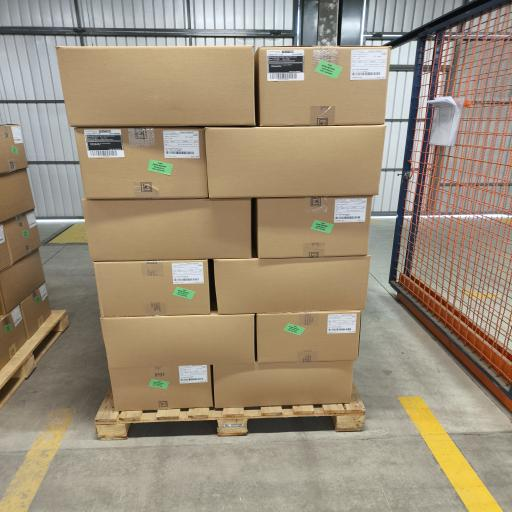pallet: (95, 385, 365, 440), (0, 311, 68, 409)
